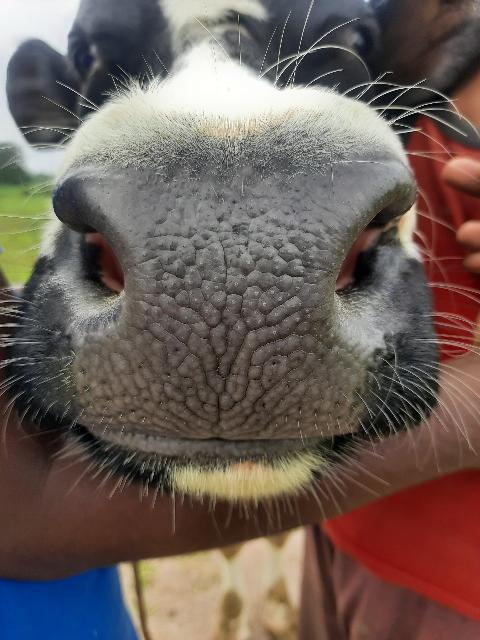Muzzle: (74, 185, 351, 438)
